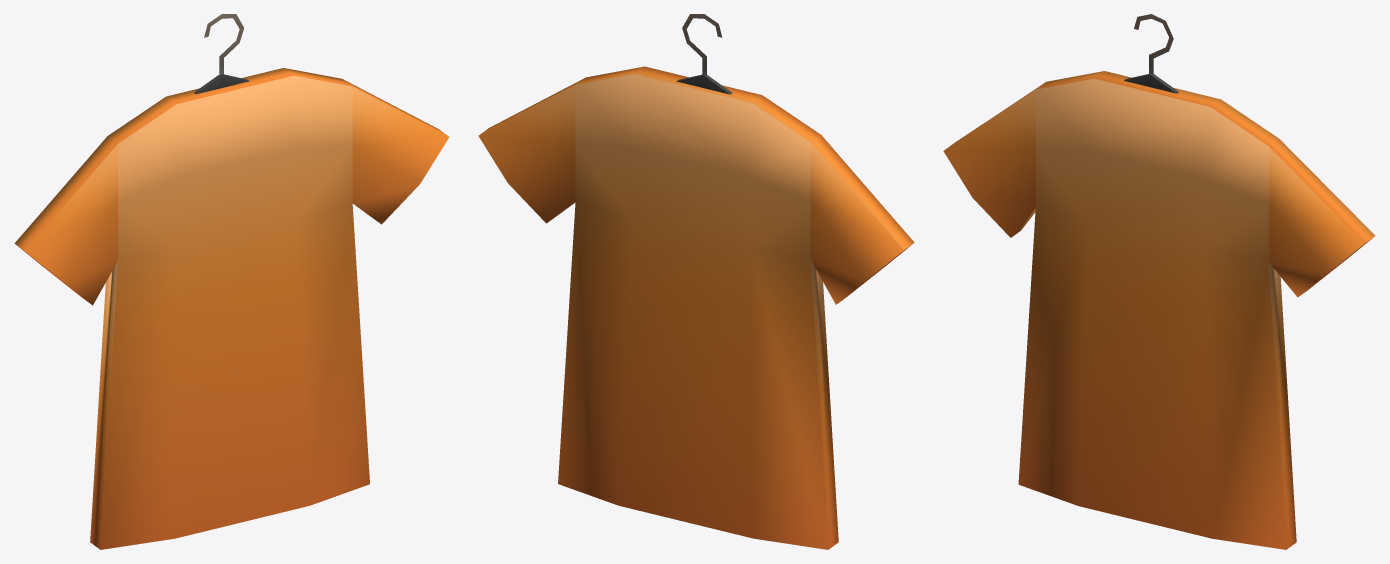
Rendered from Hang_Tshirt_04.fbx.
3 renders of one model, left to right at view 1: azimuth 30°, elevation 25°; view 2: azimuth 150°, elevation 25°; view 3: azimuth 330°, elevation 25°, orthographic.
Parts seen in each view (by area): view 1: Hang_Tshirt_04; view 2: Hang_Tshirt_04; view 3: Hang_Tshirt_04.
Part boxes in pixels (x1,y1,x2,y2): Hang_Tshirt_04: (14, 14, 449, 549); Hang_Tshirt_04: (478, 14, 914, 549); Hang_Tshirt_04: (943, 14, 1375, 549).
Bounding box in the file's own units: 0.2155 × 0.2426 × 0.0216.
